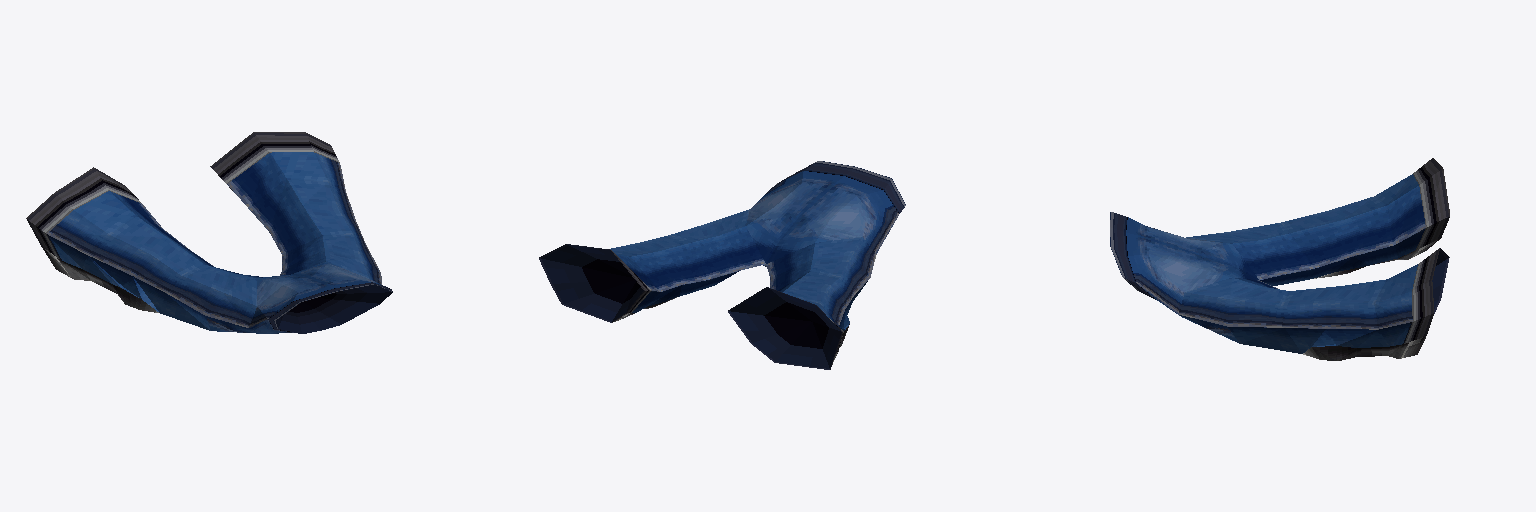
3 renders of one model, left to right at view 1: azimuth 30°, elevation 25°; view 2: azimuth 150°, elevation 25°; view 3: azimuth 270°, elevation 25°, orthographic.
Parts seen in each view (by area): view 1: Pants; view 2: Pants; view 3: Pants.
Part boxes in pixels (bbox=[...]): Pants: bbox=[26, 132, 392, 333]; Pants: bbox=[539, 161, 905, 369]; Pants: bbox=[1110, 158, 1449, 360].
Size of the model in its own units: 22.49 by 6.86 by 21.81.
1 materials, 1 textured.